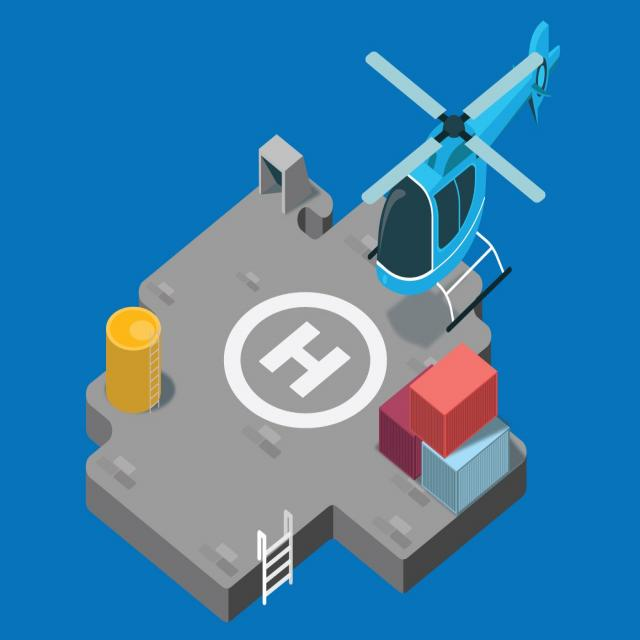helipad: (220, 287, 390, 432)
